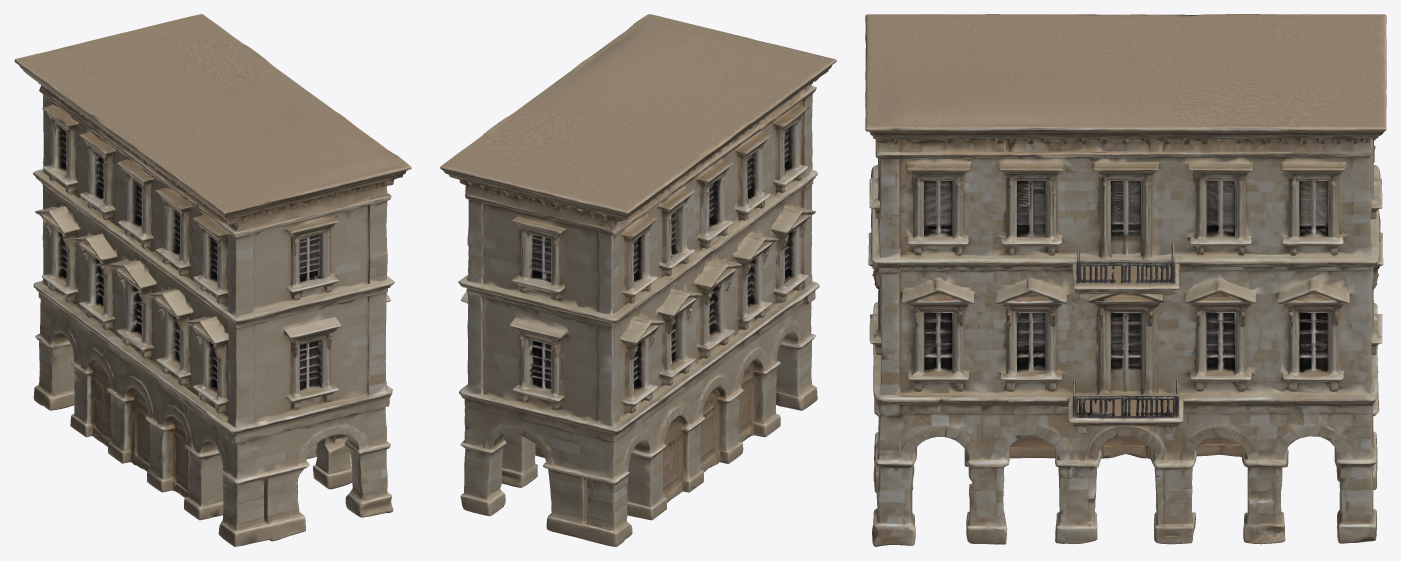
Rendered from travertine-palazzo.glb.
3 views of the same model, side by side, from view 1: azimuth 30°, elevation 25°; view 2: azimuth 150°, elevation 25°; view 3: azimuth 270°, elevation 25° (orthographic). The views are drawn at different scales.
Visible parts, largest first — view 1: tripo_node_16cf3765-5cb2-45e6-bf8d-65e04c7bbf21; view 2: tripo_node_16cf3765-5cb2-45e6-bf8d-65e04c7bbf21; view 3: tripo_node_16cf3765-5cb2-45e6-bf8d-65e04c7bbf21.
Boxes of the visible parts, x1,y1,x2,y2 form: tripo_node_16cf3765-5cb2-45e6-bf8d-65e04c7bbf21: (14, 14, 411, 546); tripo_node_16cf3765-5cb2-45e6-bf8d-65e04c7bbf21: (440, 14, 836, 546); tripo_node_16cf3765-5cb2-45e6-bf8d-65e04c7bbf21: (865, 14, 1386, 546).
Size of the model in its own units: 5.1 by 8 by 8.72.
Materials: 1 (1 with a texture image).
